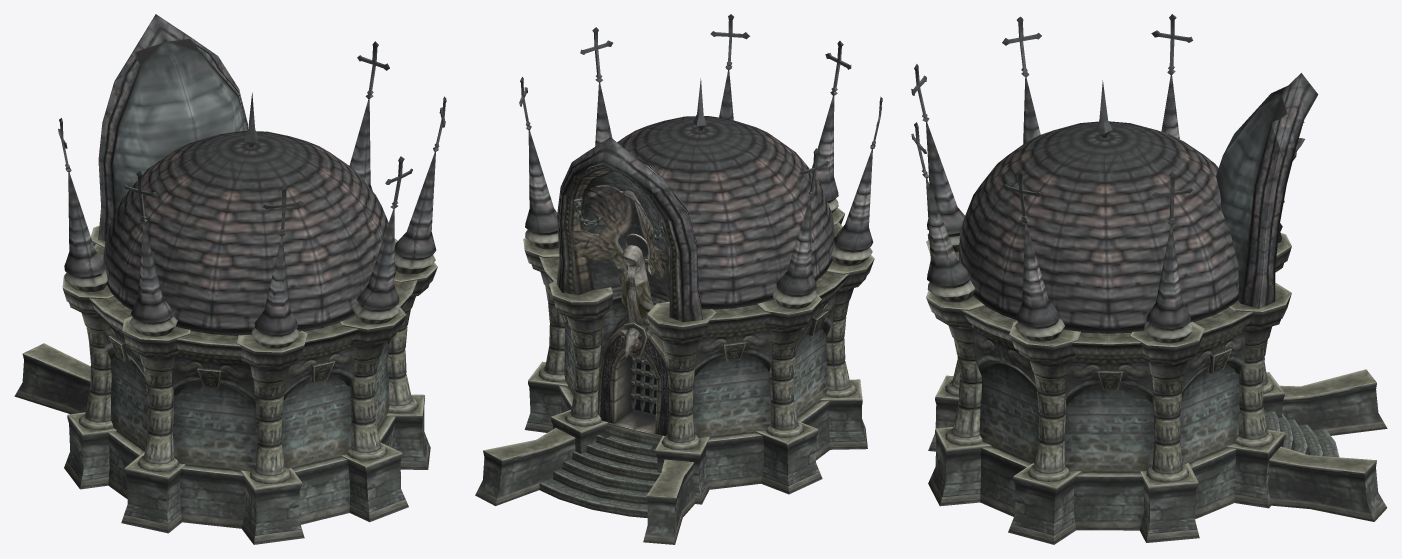
The model's file is Dungeon_Entrance.FBX.
3 renders of one model, left to right at view 1: azimuth 30°, elevation 25°; view 2: azimuth 150°, elevation 25°; view 3: azimuth 270°, elevation 25°, orthographic. The views are drawn at different scales.
Visible parts, largest first — view 1: Dungeon_Entrance; view 2: Dungeon_Entrance; view 3: Dungeon_Entrance.
Part boxes in pixels (left/top/right/bottom): Dungeon_Entrance: left=14, top=14, right=446, bottom=544; Dungeon_Entrance: left=475, top=14, right=882, bottom=544; Dungeon_Entrance: left=911, top=14, right=1387, bottom=544.
Bounding box in the file's own units: 776 × 878 × 961.
